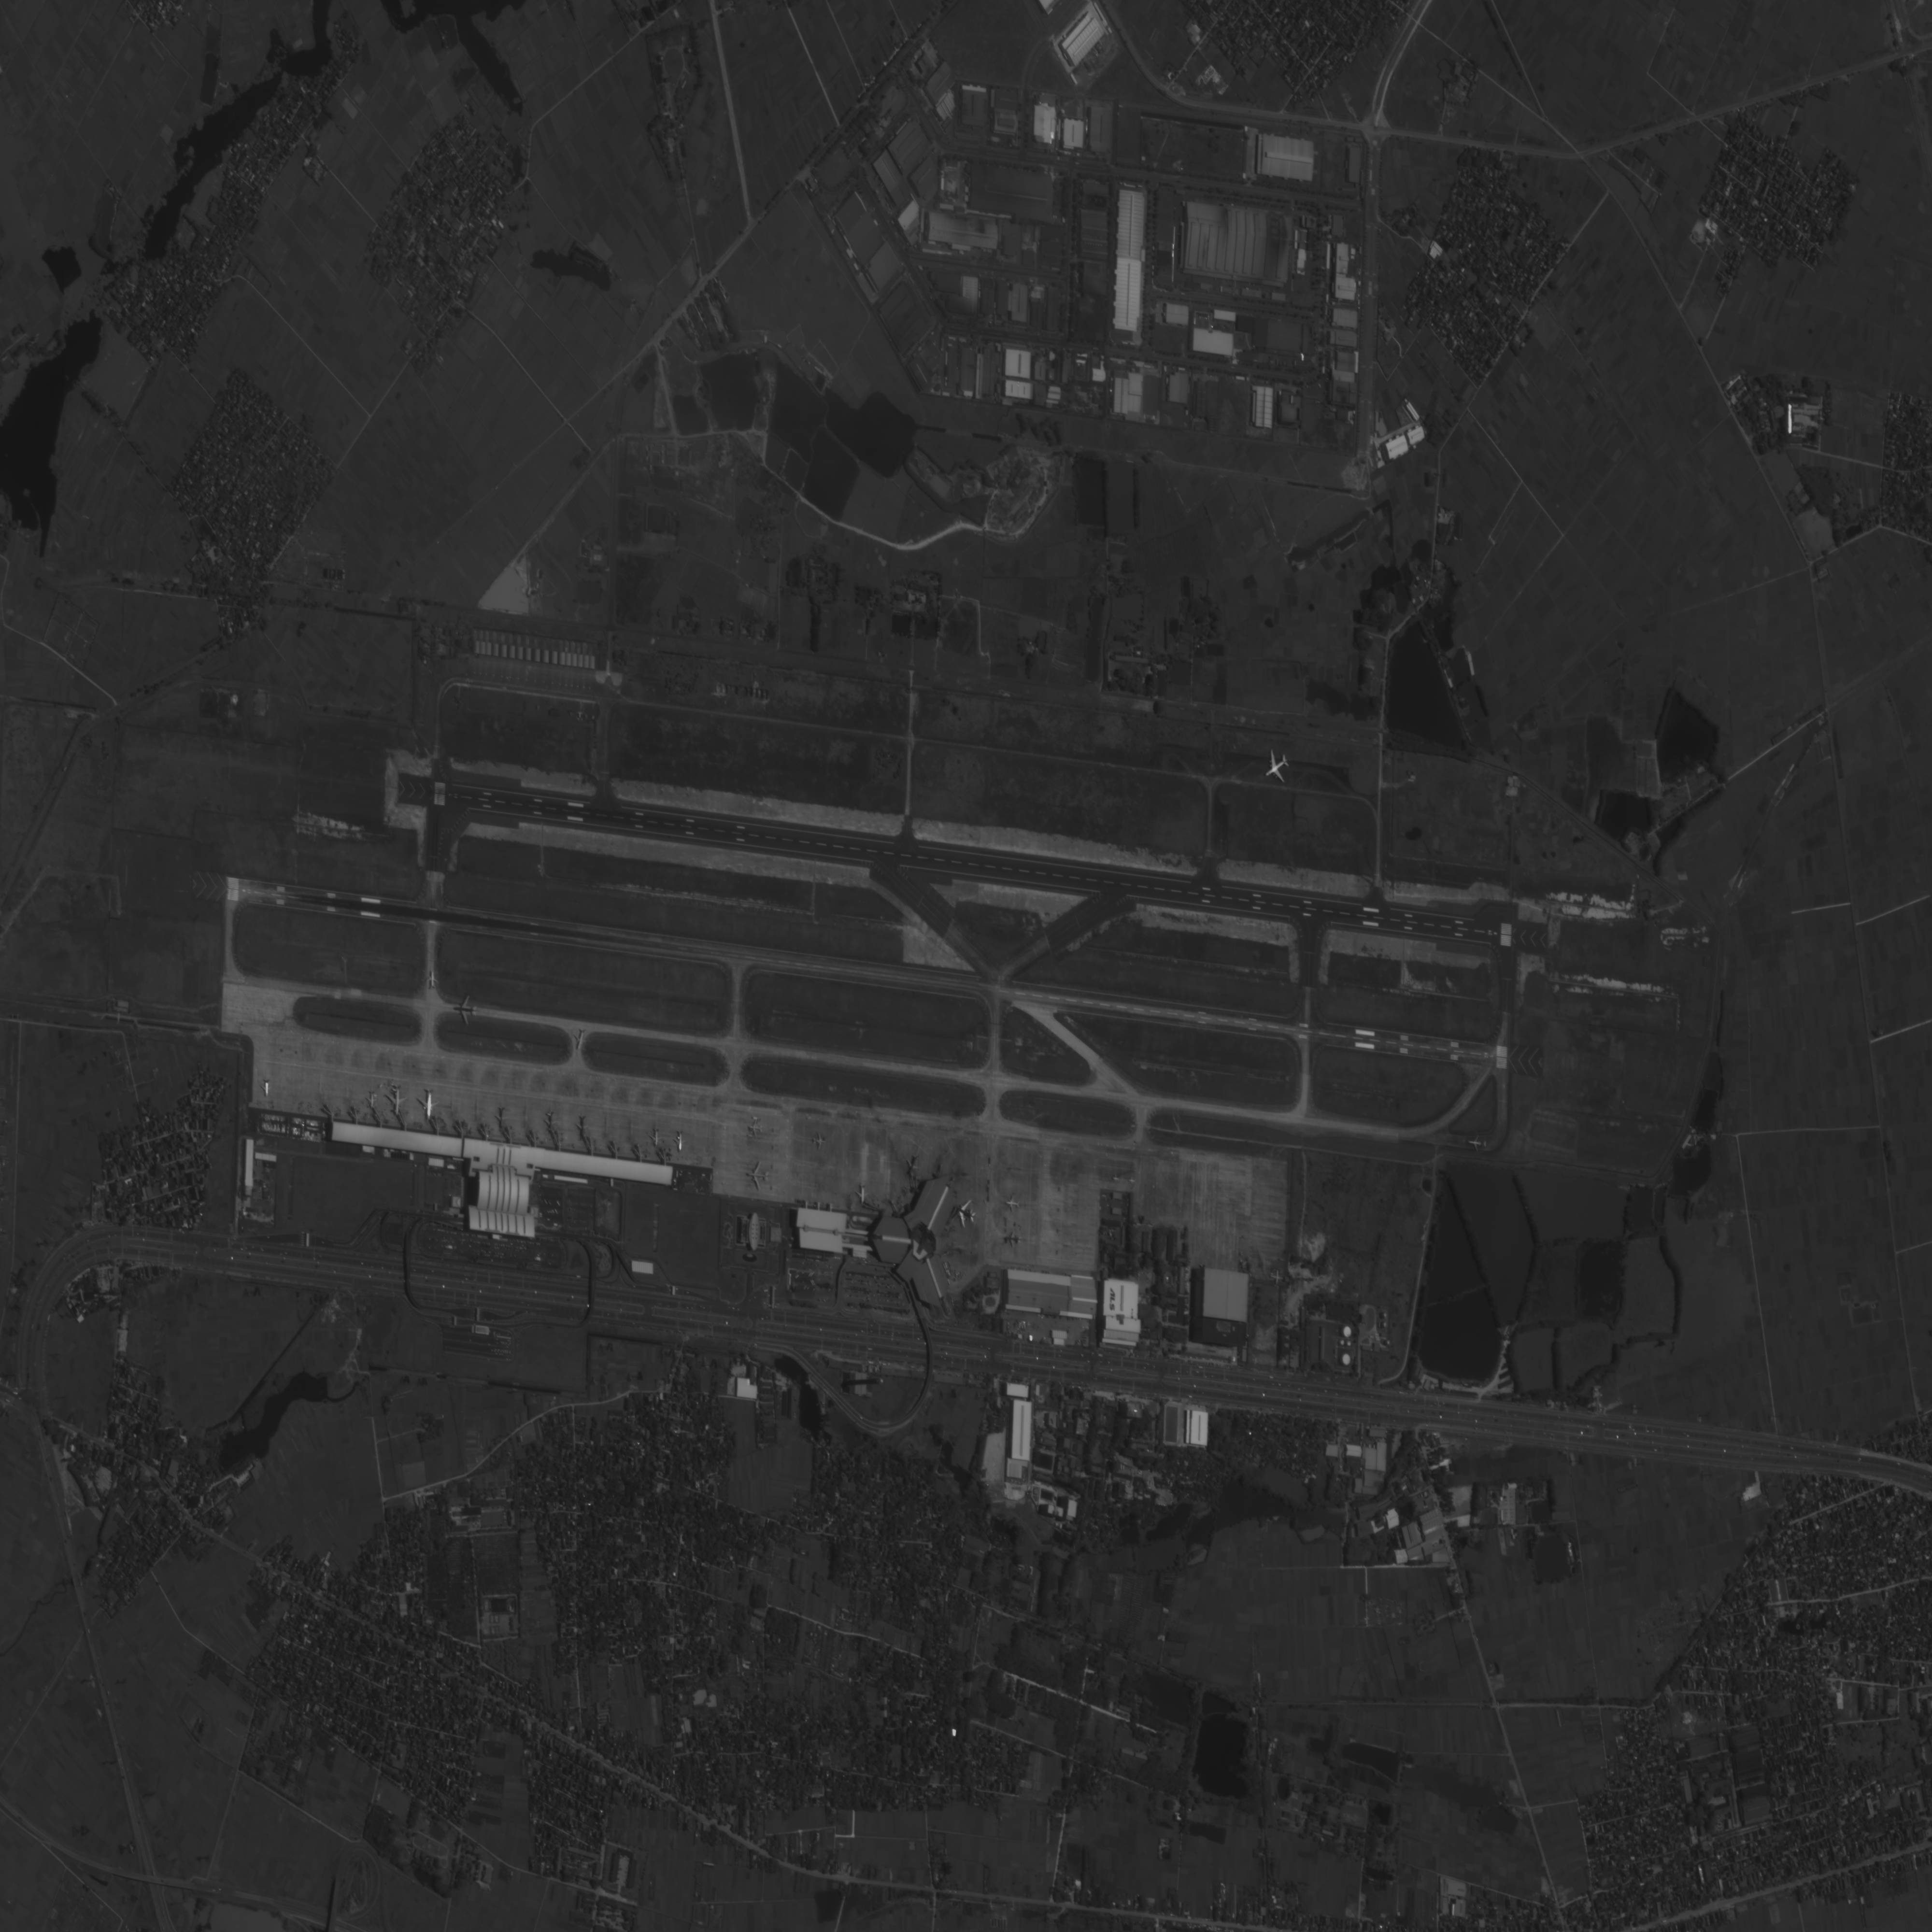plane: (1256, 743, 1297, 791), (948, 1194, 982, 1233), (451, 991, 478, 1028), (414, 1088, 442, 1122), (382, 1085, 410, 1116), (745, 1159, 770, 1192), (901, 1152, 925, 1178), (568, 1026, 591, 1053), (1467, 1132, 1490, 1154), (1003, 1192, 1023, 1214), (492, 1106, 510, 1129), (573, 1115, 591, 1138), (671, 1131, 688, 1152), (648, 1127, 665, 1146), (747, 1118, 764, 1138), (810, 1132, 828, 1152), (1003, 1230, 1021, 1249), (543, 1111, 559, 1132), (855, 1184, 870, 1205), (258, 1079, 274, 1099), (423, 971, 439, 989), (364, 1092, 379, 1109)
storage tank: (1341, 1323, 1352, 1339), (1341, 1355, 1352, 1368), (1385, 1339, 1392, 1346), (1346, 1339, 1352, 1348), (1339, 1339, 1345, 1346), (1384, 1311, 1389, 1318), (1382, 1323, 1389, 1329)
